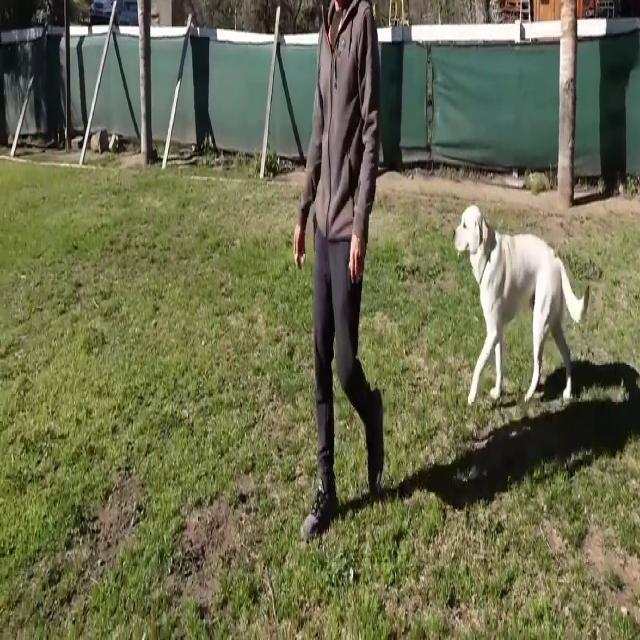Unleashed_Dog: (330, 205, 590, 404)
